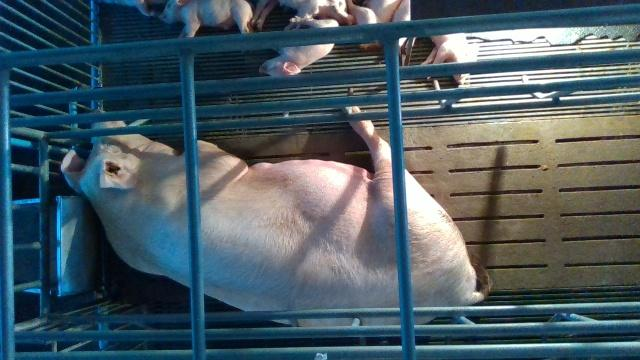piglet: (258, 17, 340, 78), (159, 0, 257, 38), (421, 32, 479, 86), (347, 0, 402, 48)
sow-sleep: (61, 106, 494, 325)
